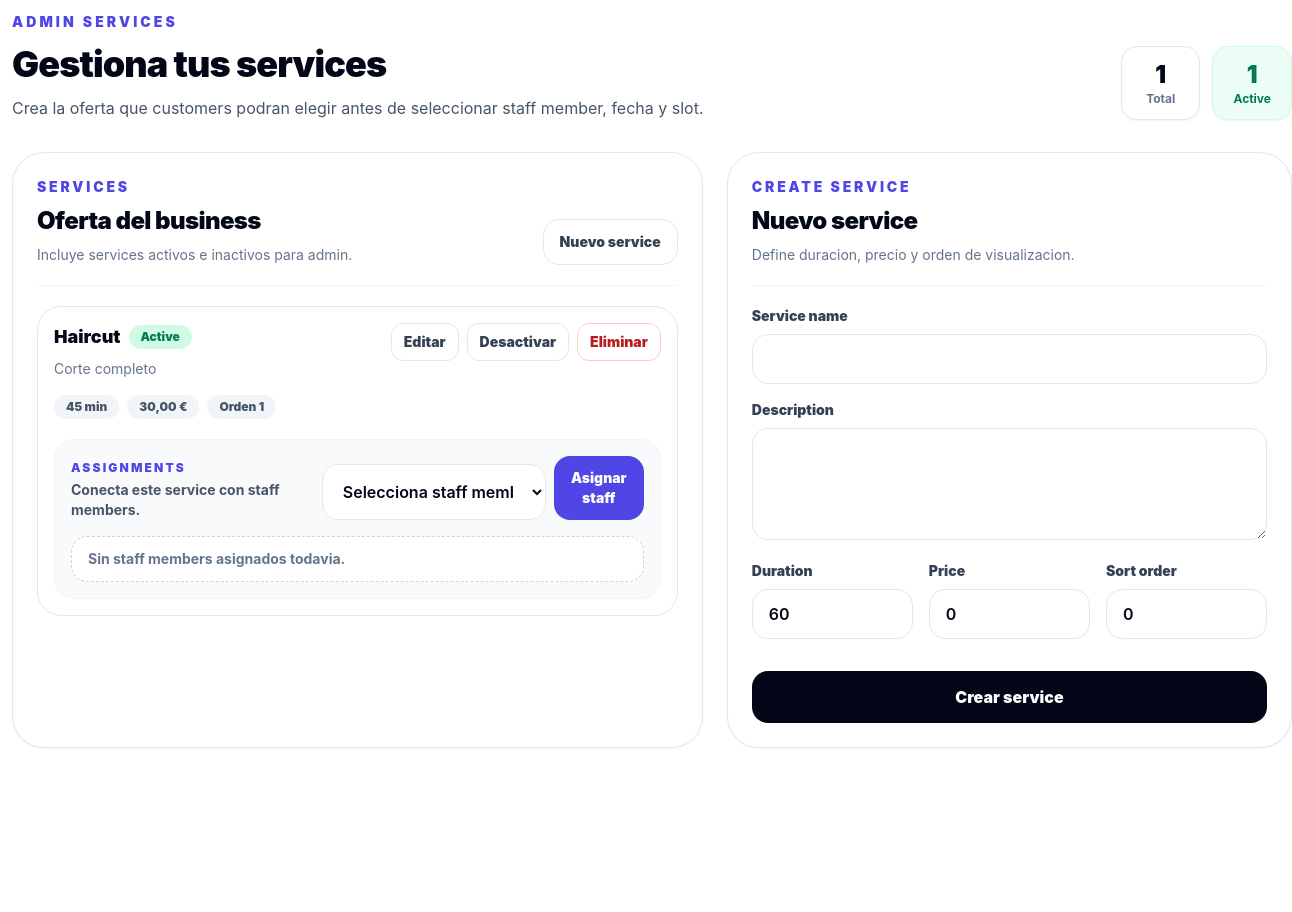
it: services page › shows delete conflicts
Expected: the heading "Haircut" is shown, [54, 323, 120, 351]
Click the button "Eliminar".
click(619, 342)  # box [577, 323, 661, 361]
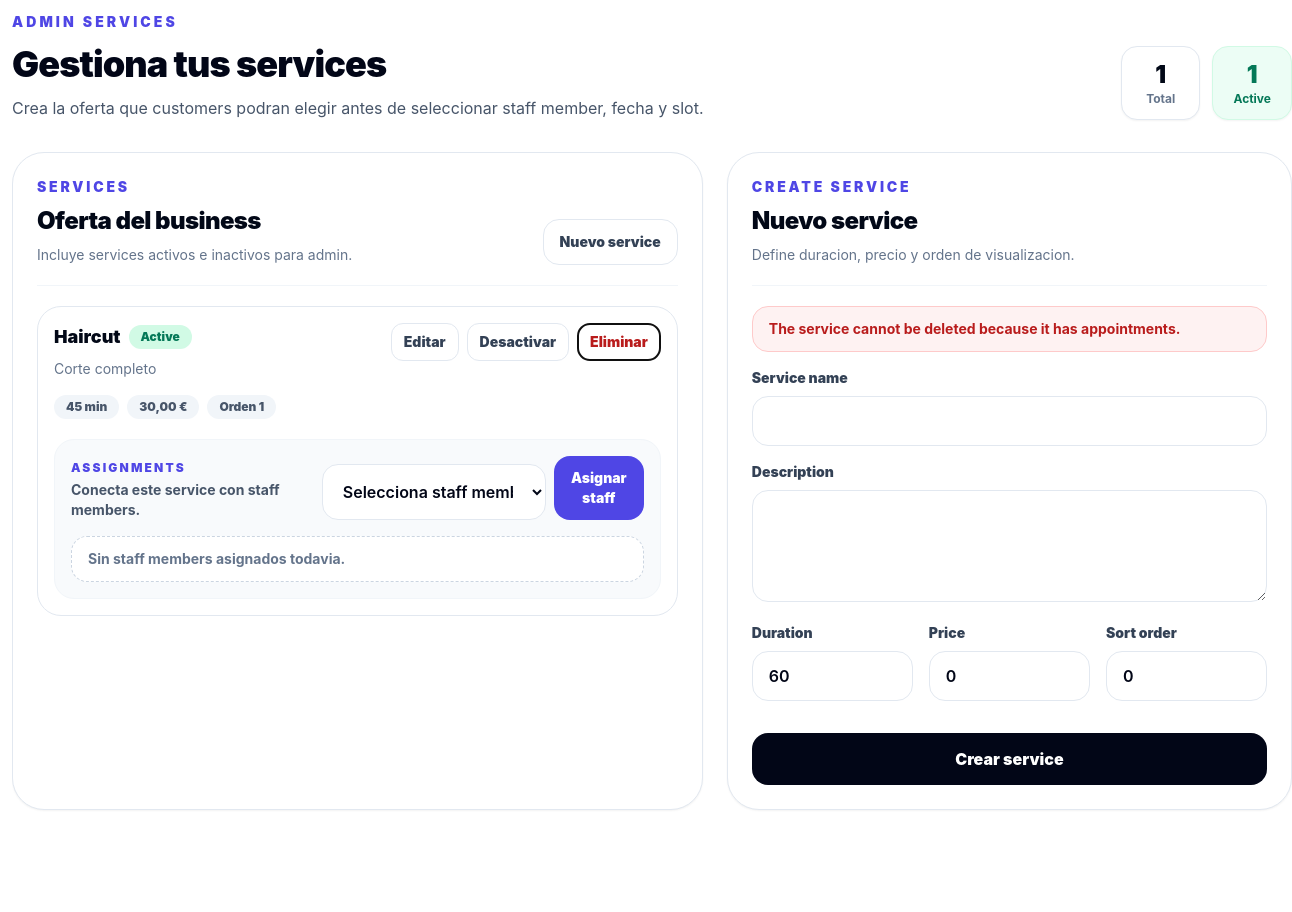
Now the message reads "The service cannot be deleted because it has appointments.", box [769, 320, 1180, 337]
